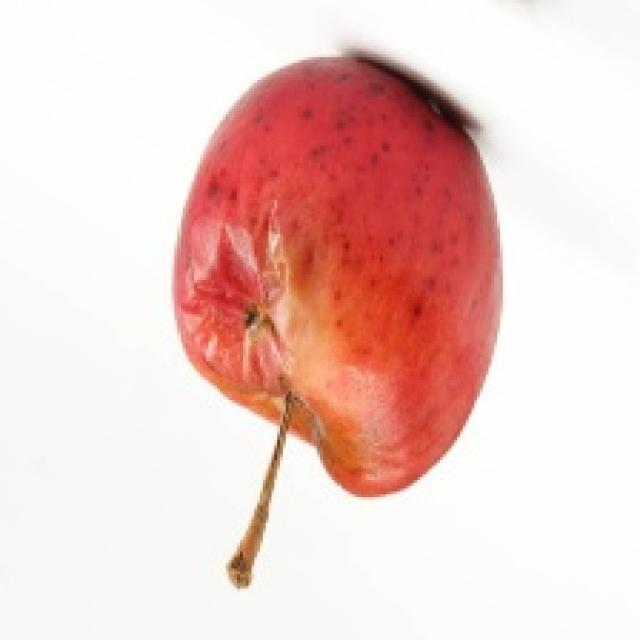rotten_apple: (183, 60, 497, 489)
